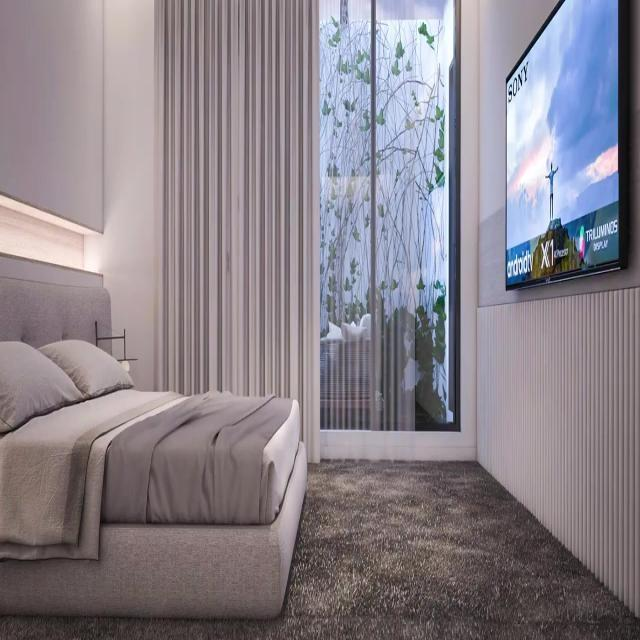obstacle: (0, 250, 308, 620)
